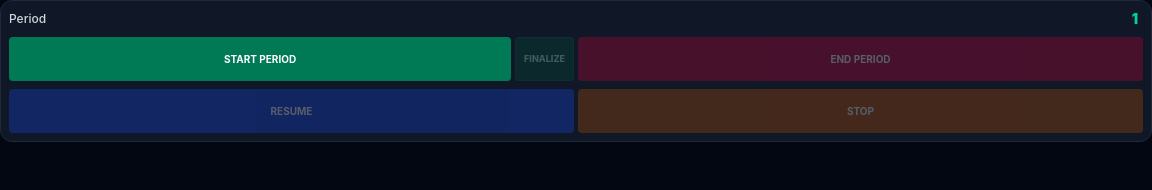
Test: MatchLifecyclePanel Component Integration & State Machine › should show compensation incomplete message if rollback fails during start period error
This screenshot has width=1152, height=190.
Expected: the text "1" is shown, [1132,10,1138,27]
Click the button "START PERIOD" at (260, 59), box [9,37,511,81]
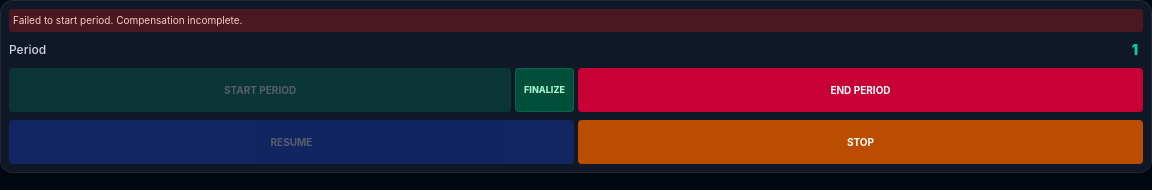
Result: the text "Failed to start period. Compensation incomplete." is shown at [9,9,1143,32]
